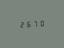seven: (32, 19, 38, 27)
six: (25, 20, 31, 28)
two: (18, 20, 24, 28)
zero: (39, 19, 45, 27)
